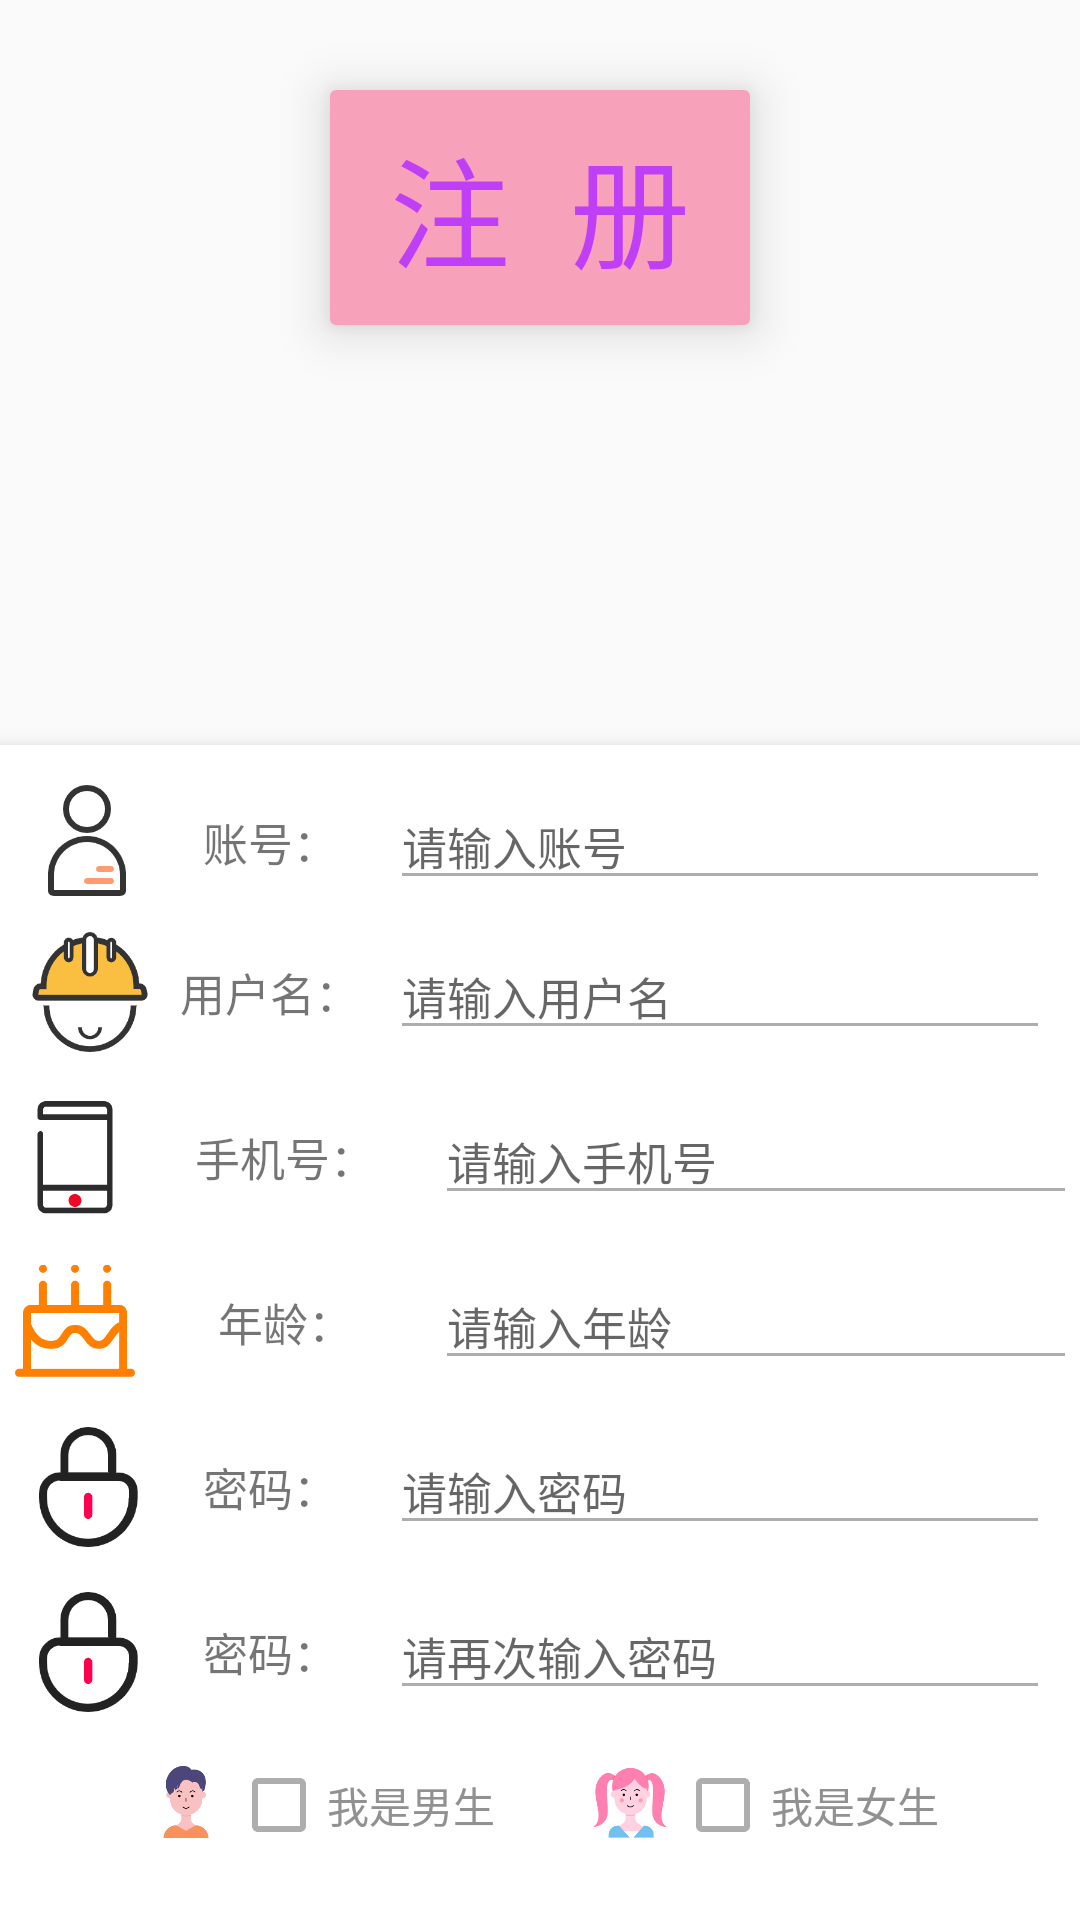

Named icons in this screenshot (1080 × 1920) and their centers, point (x, y):
age: point (75, 1321)
boy: point (186, 1802)
girl: point (629, 1803)
telephone: point (75, 1157)
user: point (87, 840)
username: point (90, 992)
